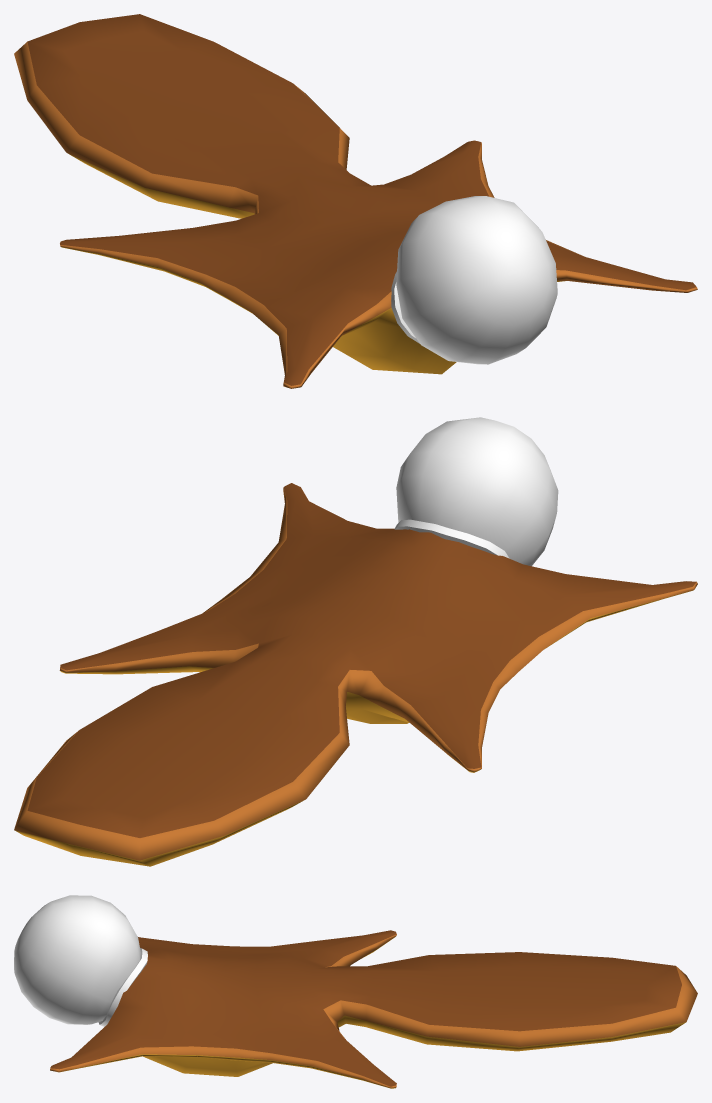
File: Squirrel_001.fbx
The picture shows the model from 3 angles, top to bottom: view 1: azimuth 30°, elevation 25°; view 2: azimuth 150°, elevation 25°; view 3: azimuth 270°, elevation 25°; orthographic projection. The views are drawn at different scales.
Visible parts, largest first — view 1: cloud:pSphere1; view 2: cloud:pSphere1; view 3: cloud:pSphere1.
Part boxes in pixels (x1,y1,x2,y2): cloud:pSphere1: [14, 14, 697, 388]; cloud:pSphere1: [14, 417, 697, 866]; cloud:pSphere1: [14, 895, 697, 1088].
Bounding box in the file's own units: 334 × 164 × 617.
